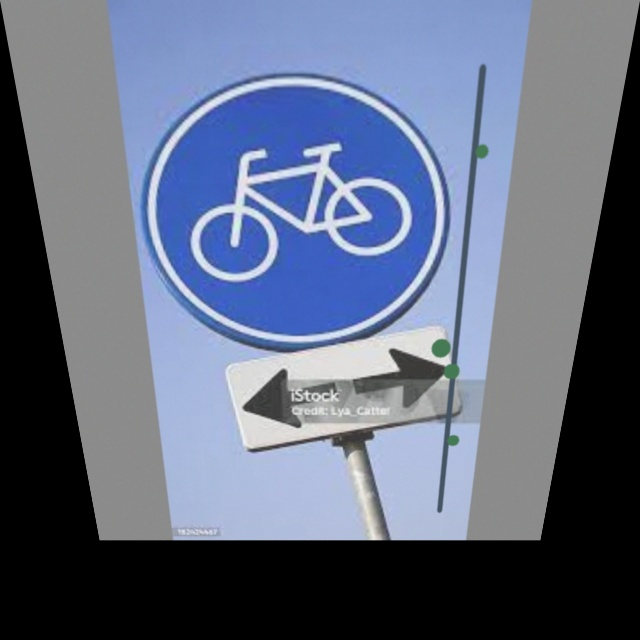Compulsory_Cycle_Track: (132, 73, 467, 321)
